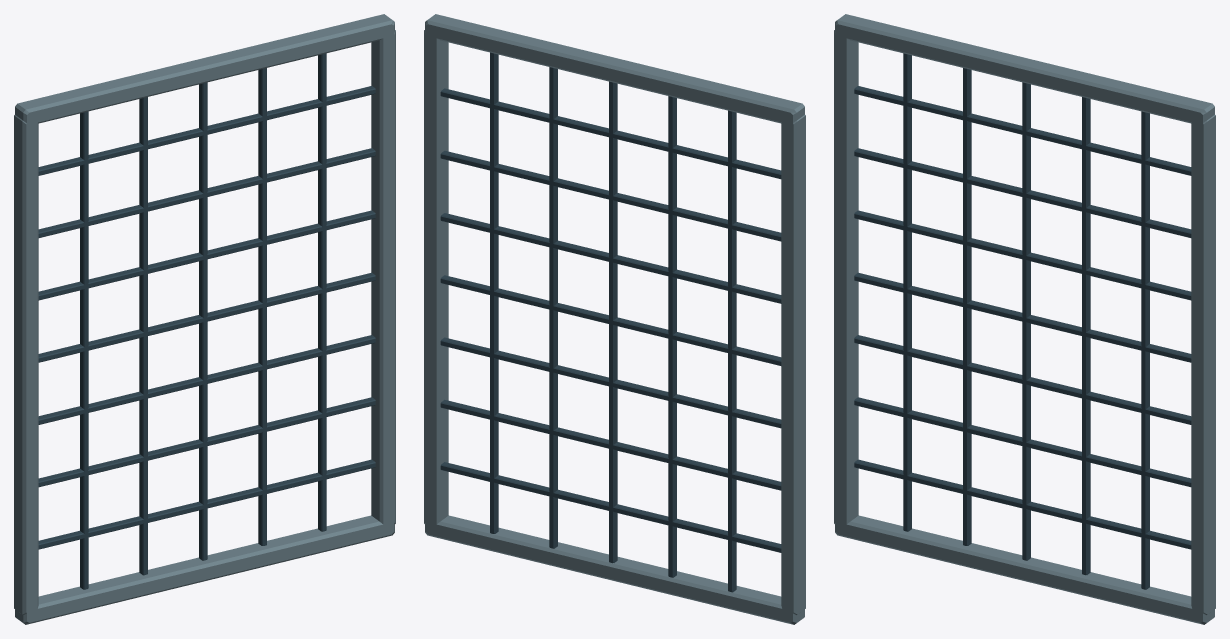
File: 19_WallGridPanel.obj
The picture shows the model from 3 angles, left to right: view 1: azimuth 30°, elevation 25°; view 2: azimuth 150°, elevation 25°; view 3: azimuth 330°, elevation 25°; orthographic projection.
Size of the model in its own units: 1.25 by 1.65 by 0.065.
